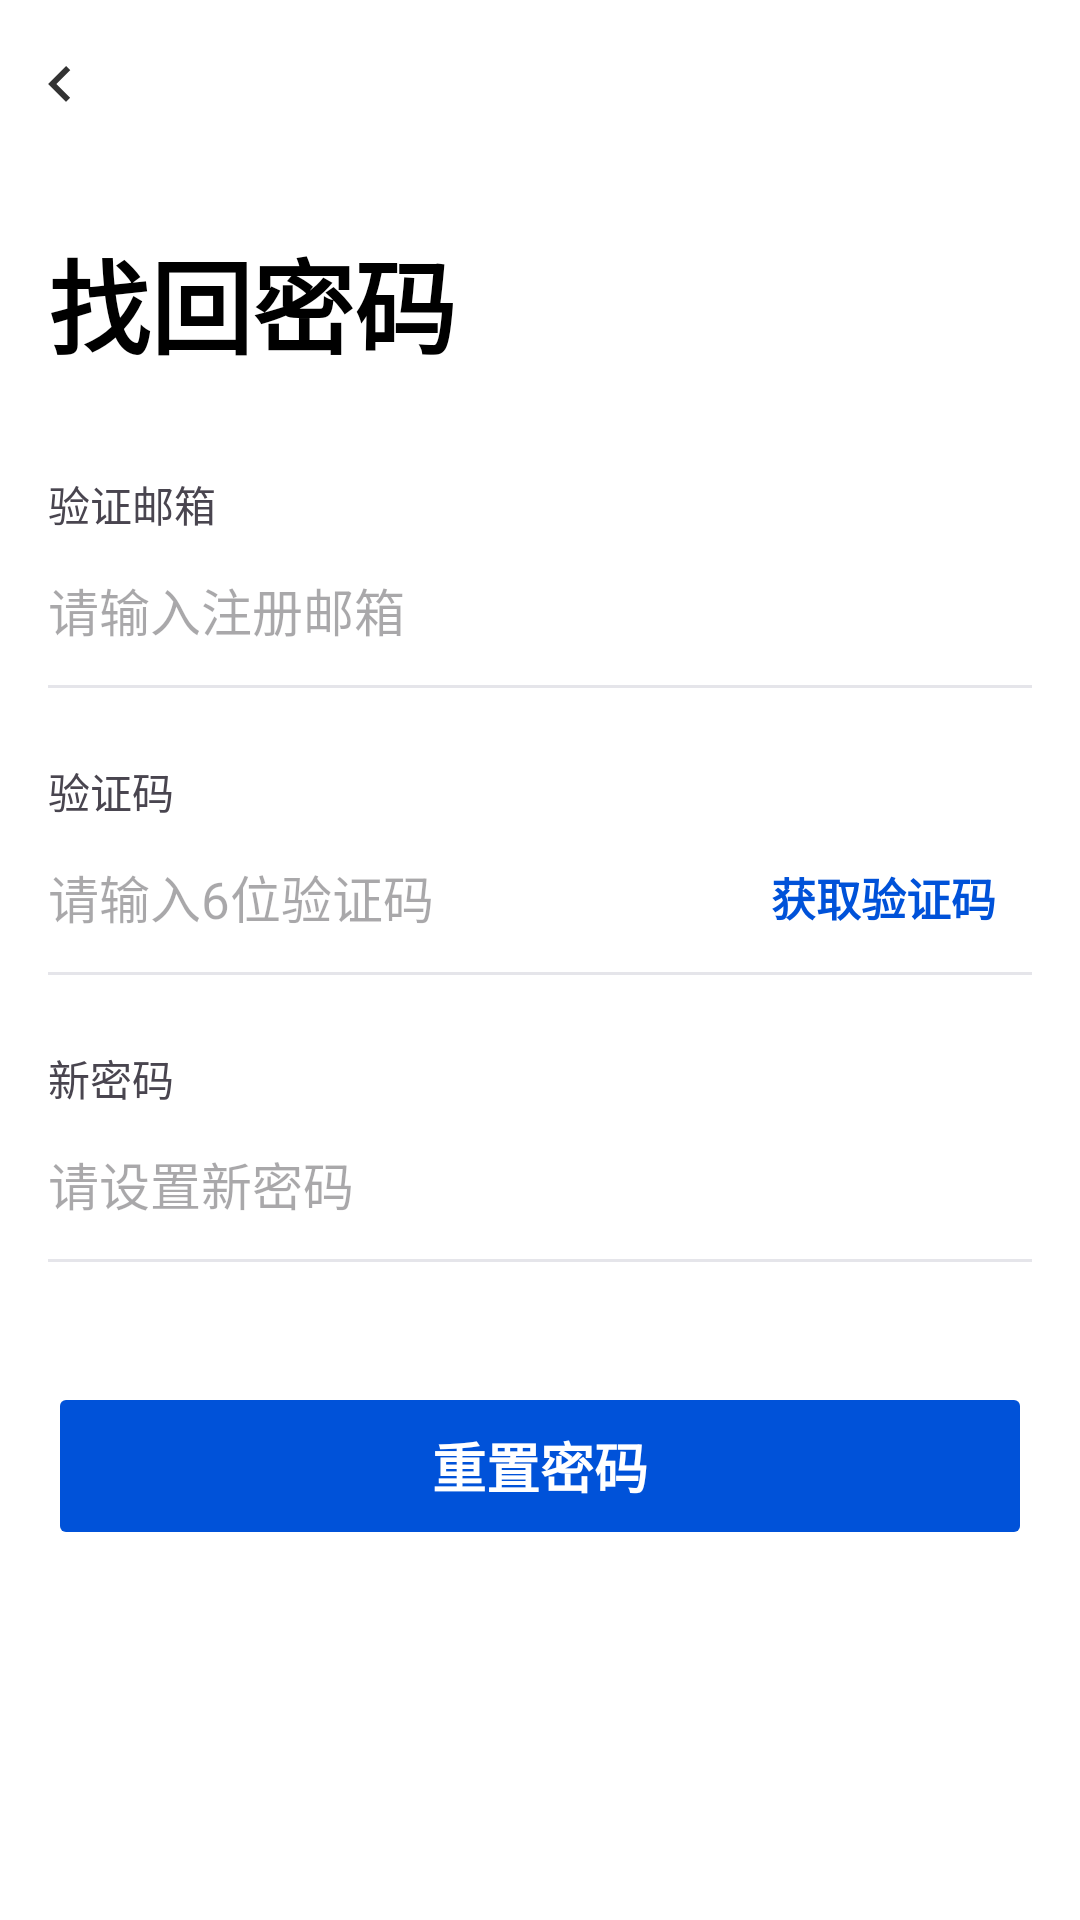

Point at icon controls on the screen. Image size 1080 × 1920, points as (x=x, y=y).
chevron left: (x=59, y=84)
